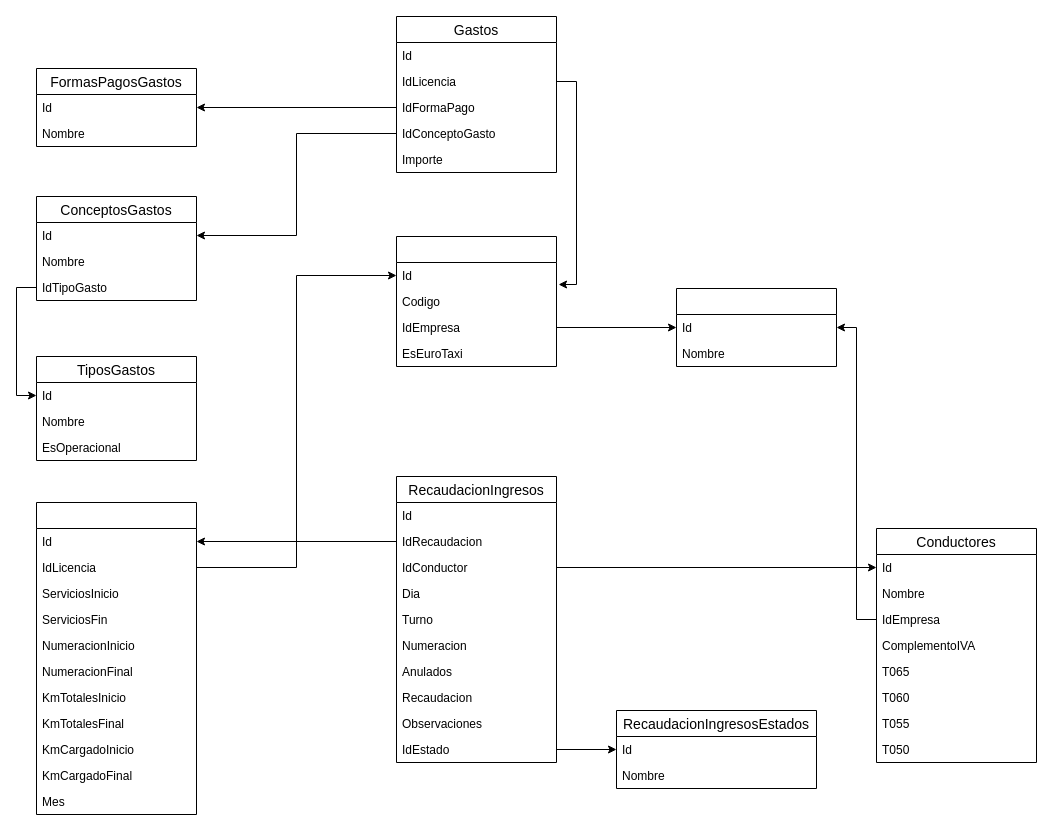
Some shapes in this 1053 by 831 pixel diagram are drawn without their labels. The box of each missing label's shape, as (x1, y1, x2, y2) in pixels:
Empresas: (676, 288, 836, 366)
Licencias: (396, 236, 556, 366)
Recaudaciones: (36, 502, 196, 814)
